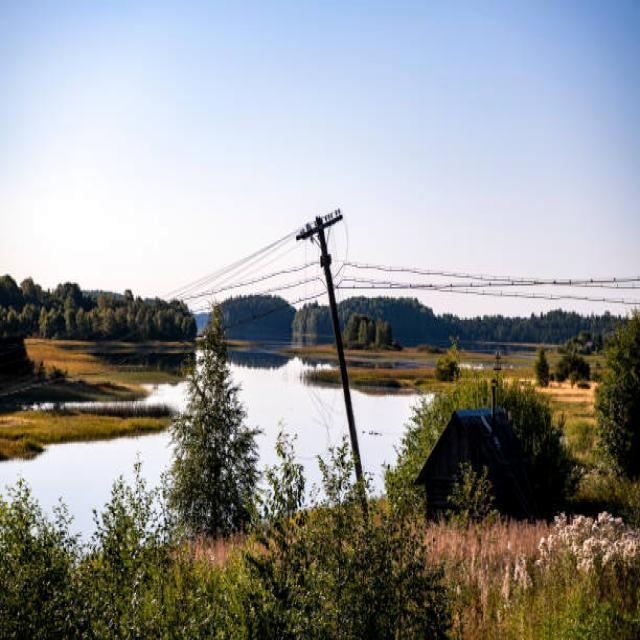Broken Pole: (288, 203, 383, 564)
